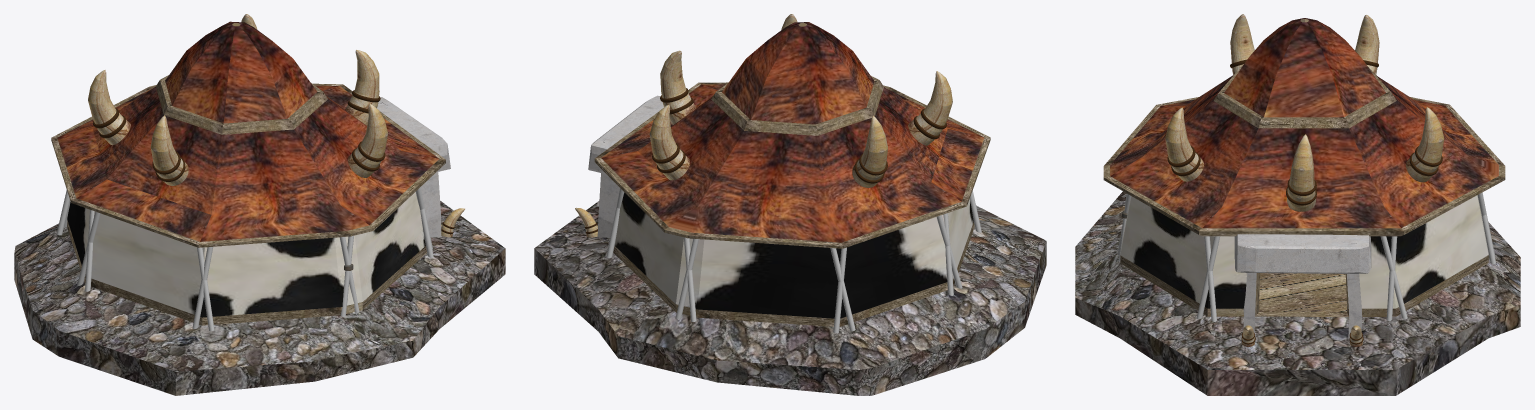
The model's file is uploads_files_2784259_OrcH_v1.fbx.
The picture shows the model from 3 angles, left to right: view 1: azimuth 30°, elevation 25°; view 2: azimuth 150°, elevation 25°; view 3: azimuth 270°, elevation 25°; orthographic projection.
Parts seen in each view (by area): view 1: OrcH; view 2: OrcH; view 3: OrcH.
Part boxes in pixels (bbox=[...]): OrcH: bbox=[14, 14, 505, 395]; OrcH: bbox=[534, 14, 1046, 395]; OrcH: bbox=[1075, 14, 1520, 395].
Size of the model in its own units: 895 by 564 by 824.
